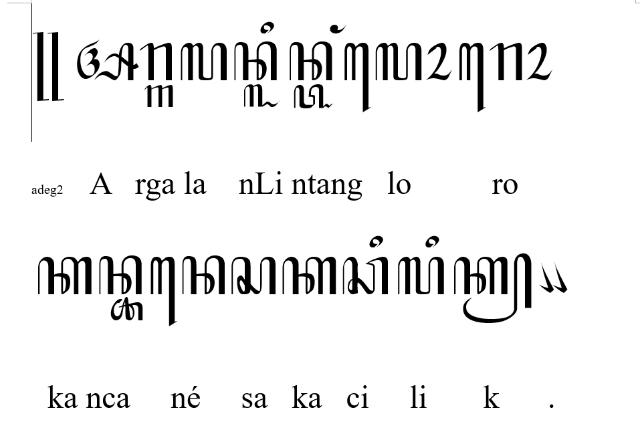-k: (454, 254, 534, 324)
A: (75, 39, 138, 81)
_c: (109, 296, 143, 322)
_l: (243, 84, 281, 108)
_t: (293, 84, 333, 110)
adeg2: (32, 31, 64, 101)
c: (341, 255, 389, 295)
e1: (150, 256, 178, 328), (458, 43, 486, 114), (343, 43, 371, 113)
g: (143, 84, 175, 108)
i: (424, 235, 440, 249), (369, 233, 383, 248), (260, 21, 274, 35)
k: (281, 256, 337, 296), (38, 256, 92, 296)
kom: (551, 261, 567, 293), (538, 262, 554, 292)
l: (180, 40, 228, 82), (374, 42, 424, 82), (398, 256, 447, 296)
n: (98, 254, 144, 296), (180, 255, 226, 295), (234, 41, 278, 81), (289, 41, 333, 81)
ng: (329, 24, 346, 34)
o: (526, 42, 552, 82), (426, 41, 452, 80)
r: (139, 42, 173, 82), (489, 43, 523, 81)
s: (230, 256, 278, 296)
